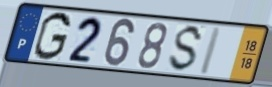2: (64, 14, 104, 66)
6: (103, 17, 136, 68)
8: (137, 21, 168, 70)
G: (32, 10, 73, 62)
I: (196, 25, 225, 77)
S: (166, 23, 206, 74)
